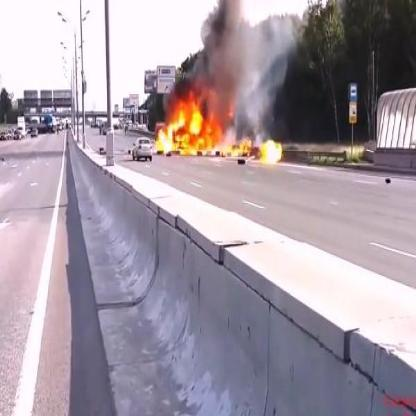fire: (154, 86, 232, 158), (254, 138, 287, 168), (222, 135, 254, 158)
